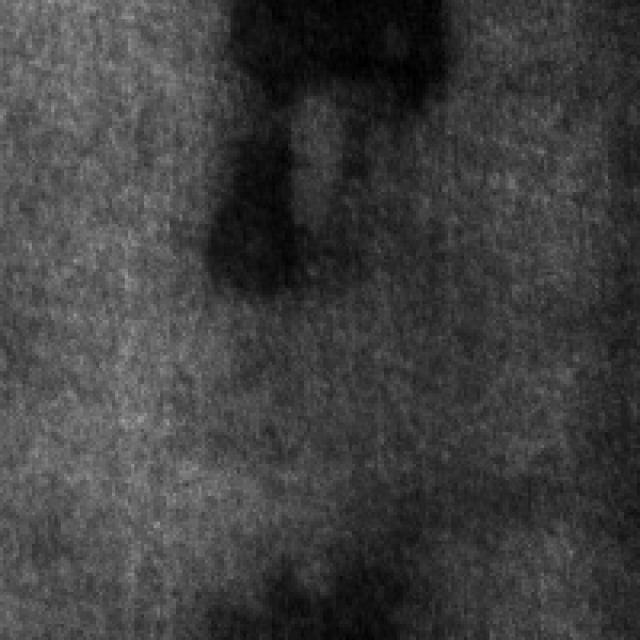patches: (228, 0, 458, 118), (208, 109, 314, 298), (224, 547, 438, 634)
